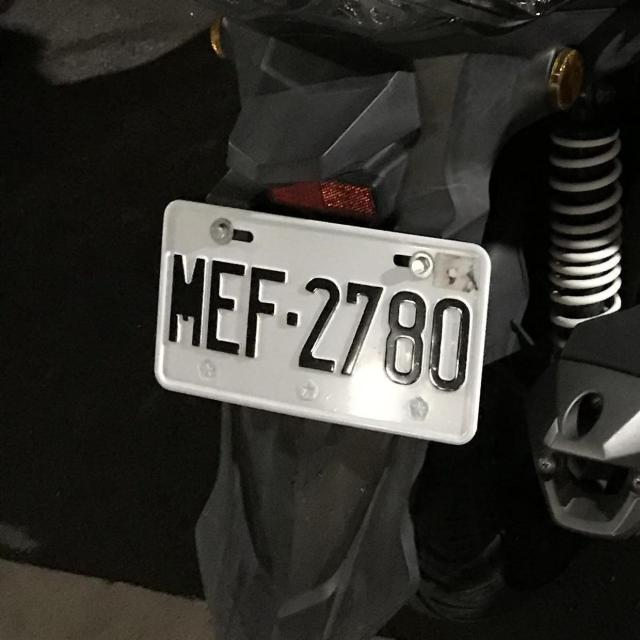W: (138, 196, 501, 448)
